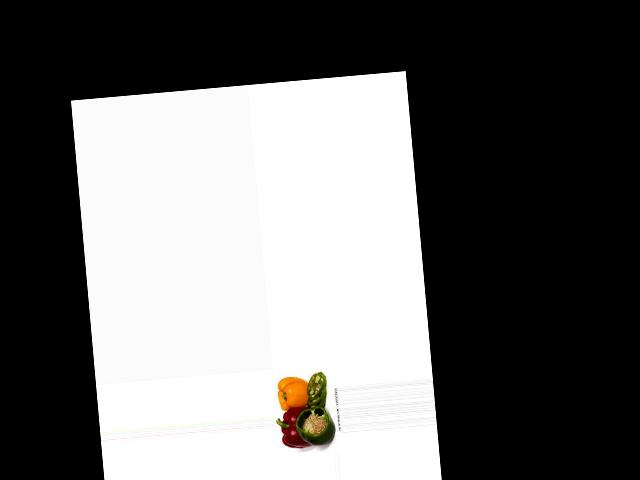bell_pepper: (293, 404, 333, 451)
